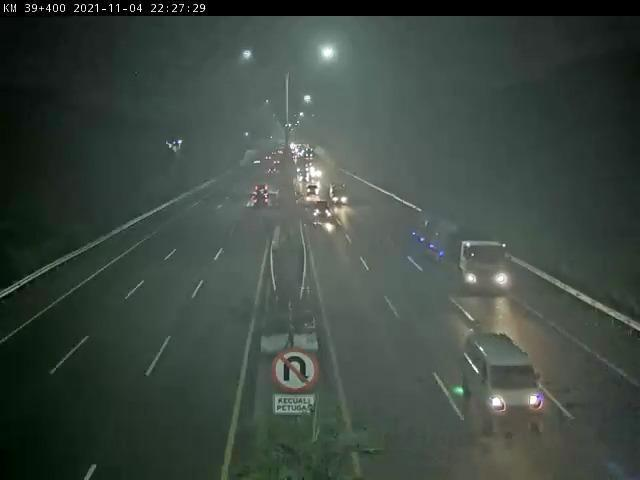car: (461, 333, 542, 417), (313, 200, 334, 220), (253, 197, 270, 211)
truck: (412, 214, 512, 293), (330, 184, 349, 206)
